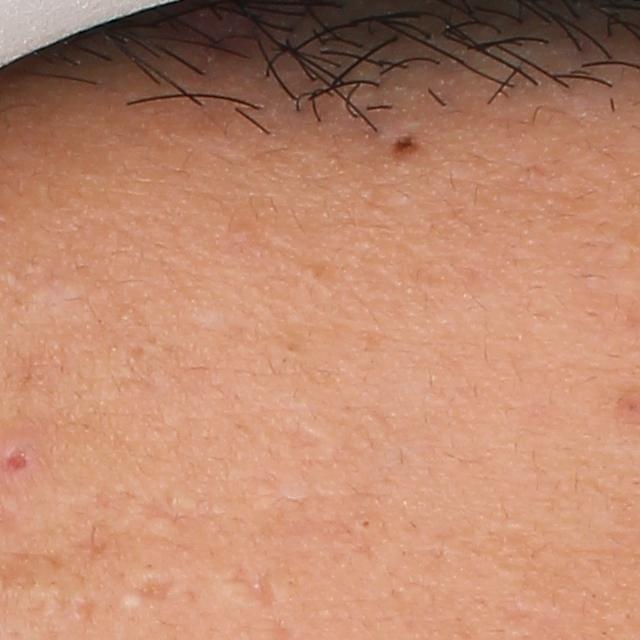atrophic_scar: (218, 561, 275, 612), (133, 490, 200, 532), (133, 572, 179, 600), (71, 593, 102, 624)
comedo: (356, 517, 374, 530)
hypertrophic_scar: (117, 591, 144, 611)
nevus: (387, 132, 420, 163)
